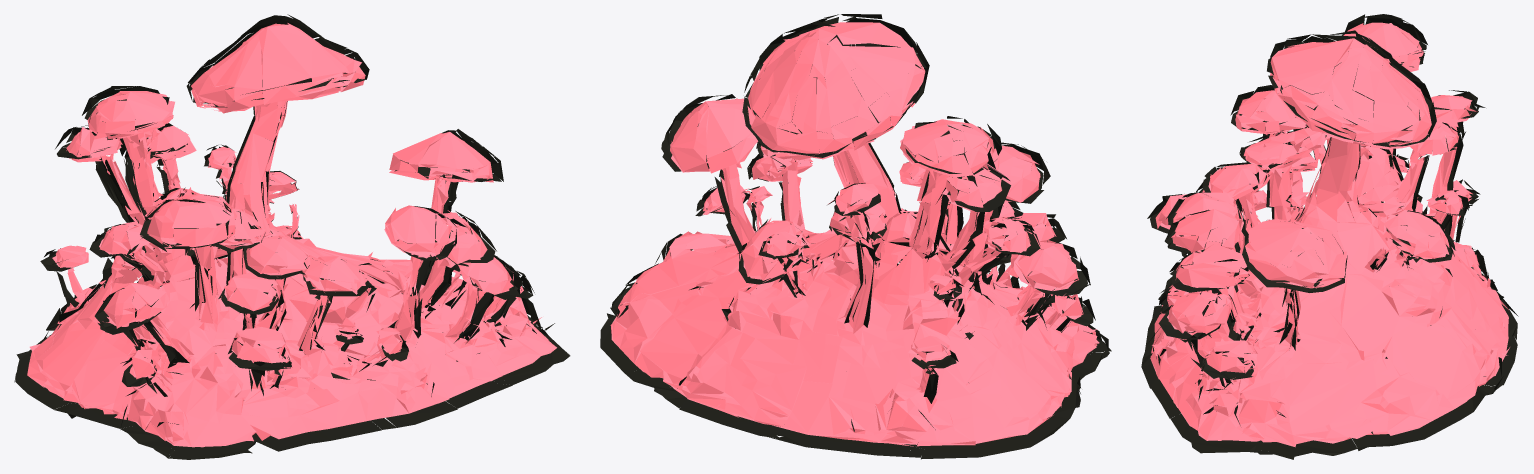
File: df_v2_mushroom_cluster_large_b_a.glb
3 renders of one model, left to right at view 1: azimuth 30°, elevation 25°; view 2: azimuth 150°, elevation 25°; view 3: azimuth 270°, elevation 25°, orthographic. The views are drawn at different scales.
Parts seen in each view (by area): view 1: mushroom_cluster_large_b_mesh_01, mushroom_cluster_large_b_mesh_01_ink_outline; view 2: mushroom_cluster_large_b_mesh_01, mushroom_cluster_large_b_mesh_01_ink_outline; view 3: mushroom_cluster_large_b_mesh_01, mushroom_cluster_large_b_mesh_01_ink_outline.
Part boxes in pixels (<box>): mushroom_cluster_large_b_mesh_01: <box>27,23,556,447</box>; mushroom_cluster_large_b_mesh_01_ink_outline: <box>14,14,570,459</box>; mushroom_cluster_large_b_mesh_01: <box>610,22,1099,446</box>; mushroom_cluster_large_b_mesh_01_ink_outline: <box>600,14,1111,459</box>; mushroom_cluster_large_b_mesh_01: <box>1150,22,1509,447</box>; mushroom_cluster_large_b_mesh_01_ink_outline: <box>1141,14,1518,459</box>.
Bounding box in the file's own units: 1.9 × 1.31 × 1.4.
